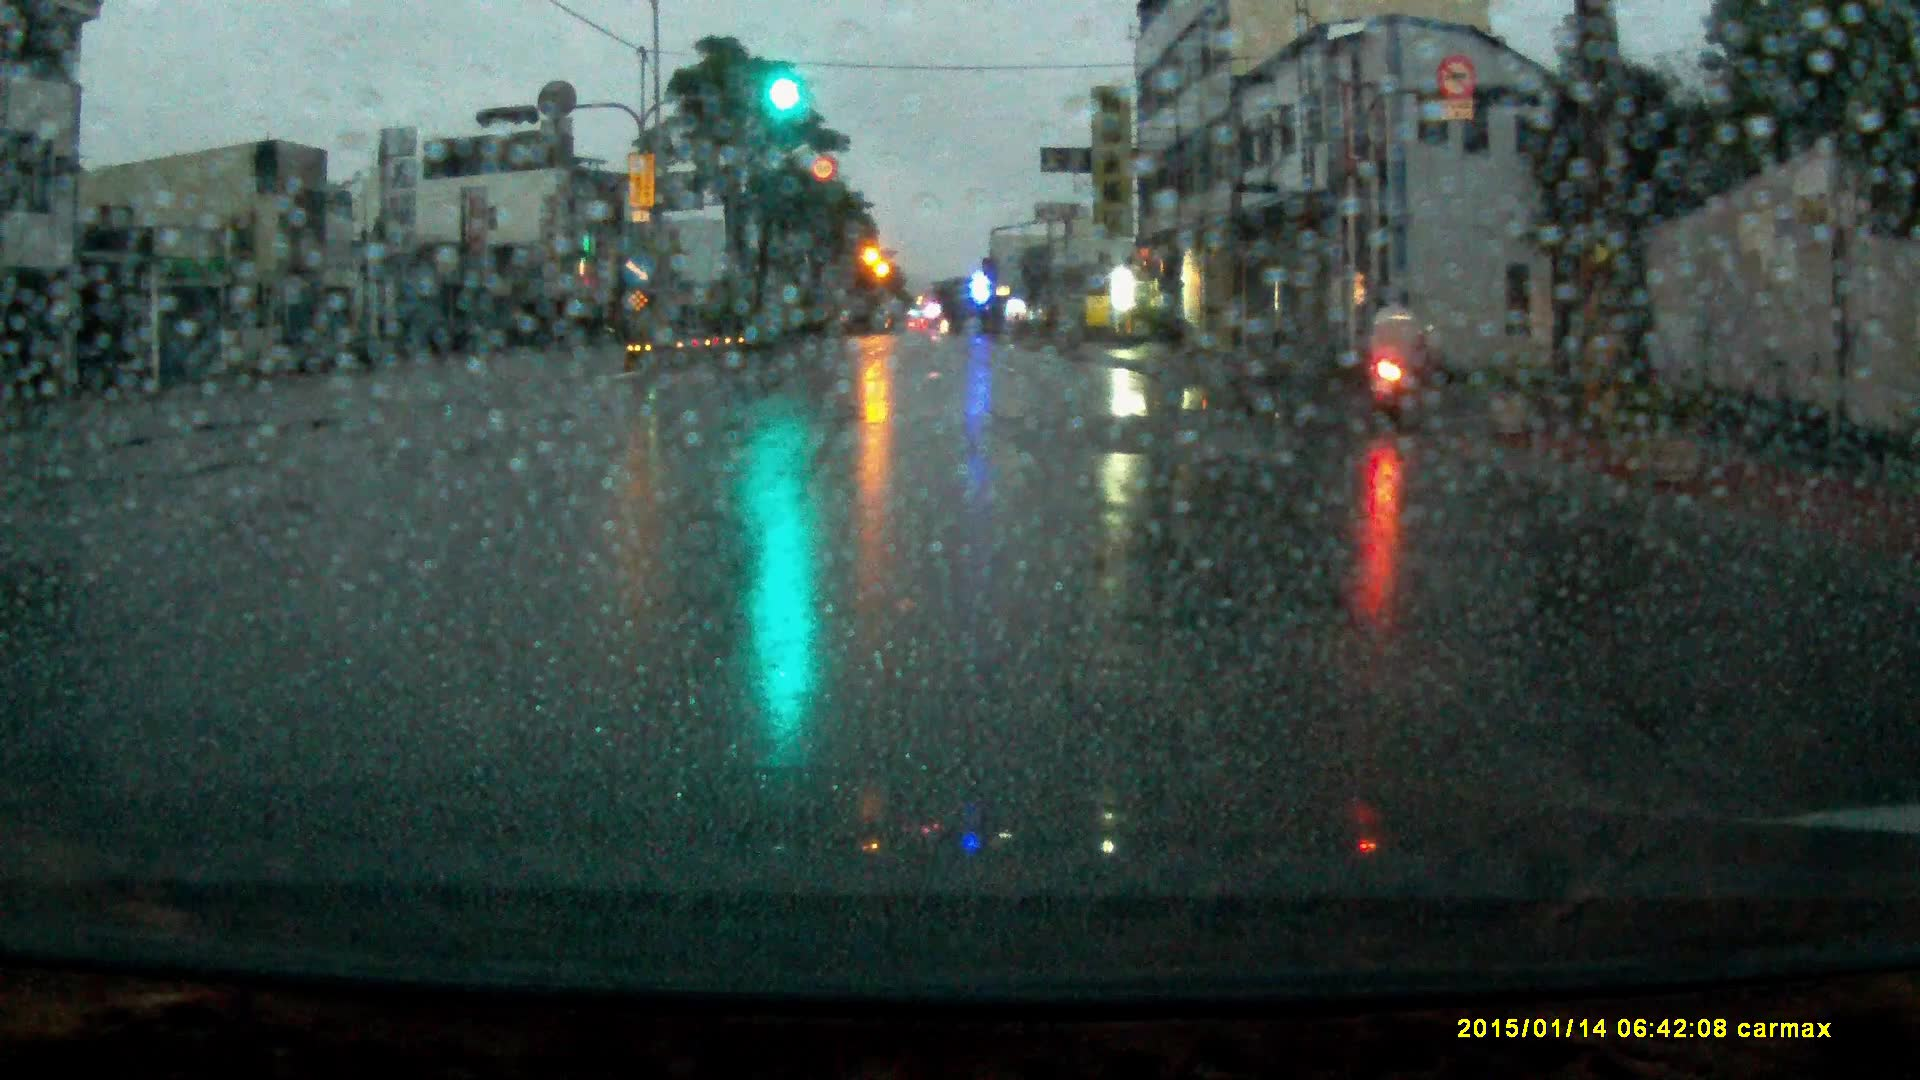rider: (1357, 287, 1441, 423)
